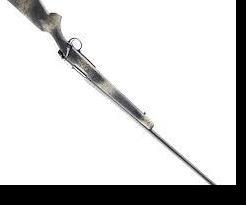larga: (7, 0, 216, 185)
